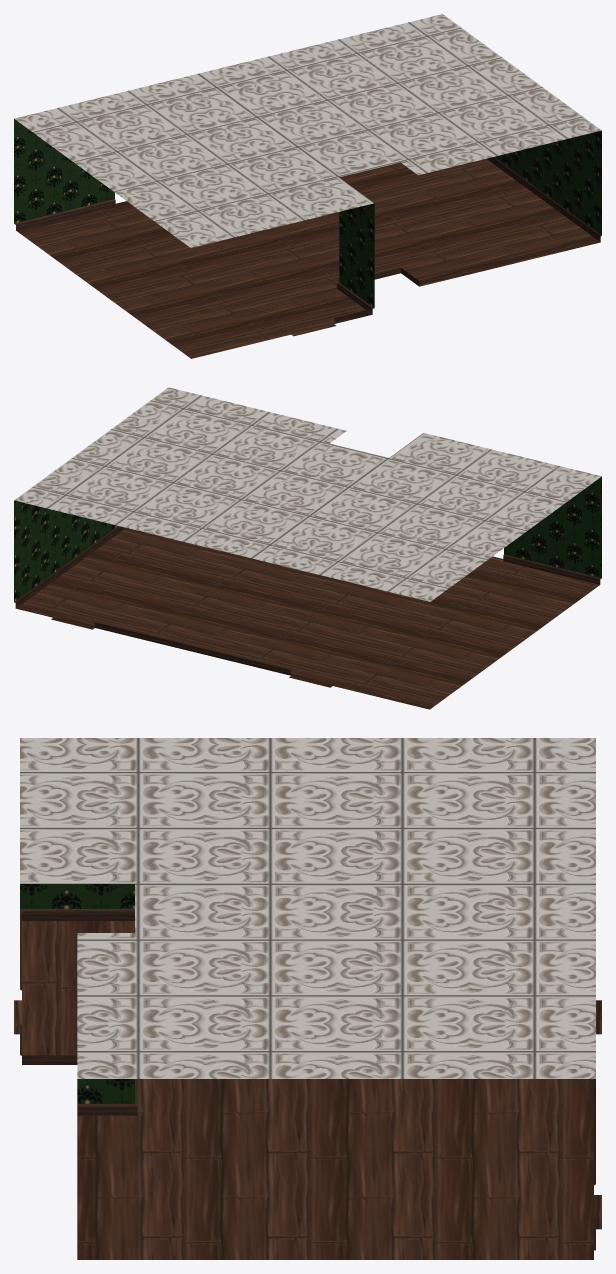
The model's file is Kitchen_FINAL.fbx.
3 renders of one model, top to bottom at view 1: azimuth 30°, elevation 25°; view 2: azimuth 150°, elevation 25°; view 3: azimuth 270°, elevation 25°, orthographic. The views are drawn at different scales.
Parts seen in each view (by area): view 1: Kitchen; view 2: Kitchen; view 3: Kitchen.
Boxes of the visible parts, x1,y1,x2,y2 form: Kitchen: (14, 14, 601, 358); Kitchen: (14, 387, 601, 709); Kitchen: (14, 738, 601, 1259).
Bounding box in the file's own units: 1390 × 346 × 1013.
